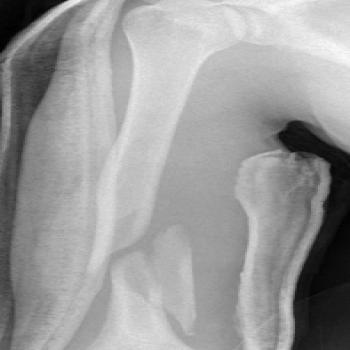Fracture: (82, 218, 191, 273), (134, 288, 205, 337)
